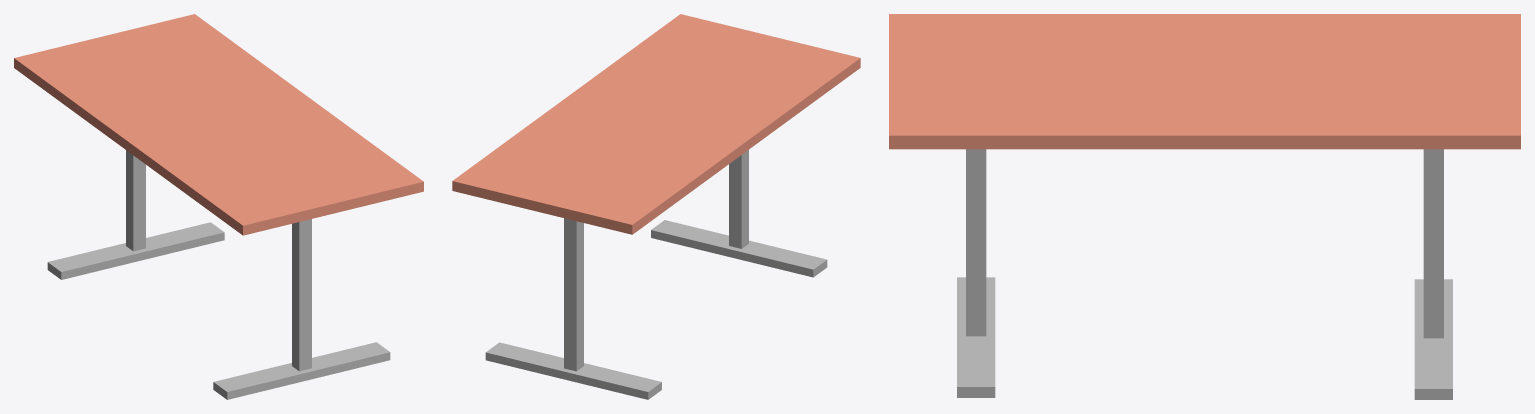
File: desk.gltf
3 views of the same model, side by side, from view 1: azimuth 30°, elevation 25°; view 2: azimuth 150°, elevation 25°; view 3: azimuth 270°, elevation 25° (orthographic). The views are drawn at different scales.
Visible parts, largest first — view 1: Desk; view 2: Desk; view 3: Desk.
Part boxes in pixels (<box>): Desk: <box>14,14,423,399</box>; Desk: <box>452,14,860,399</box>; Desk: <box>889,14,1520,399</box>.
Size of the model in its own units: 5.66 by 5.87 by 12.43.
